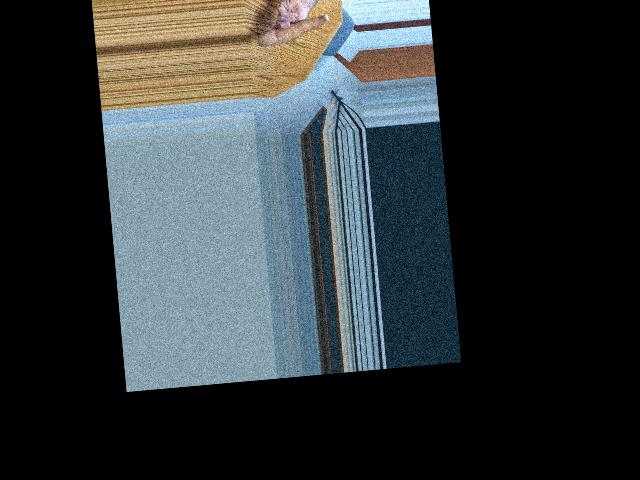sweet_potato: (257, 10, 331, 49)
